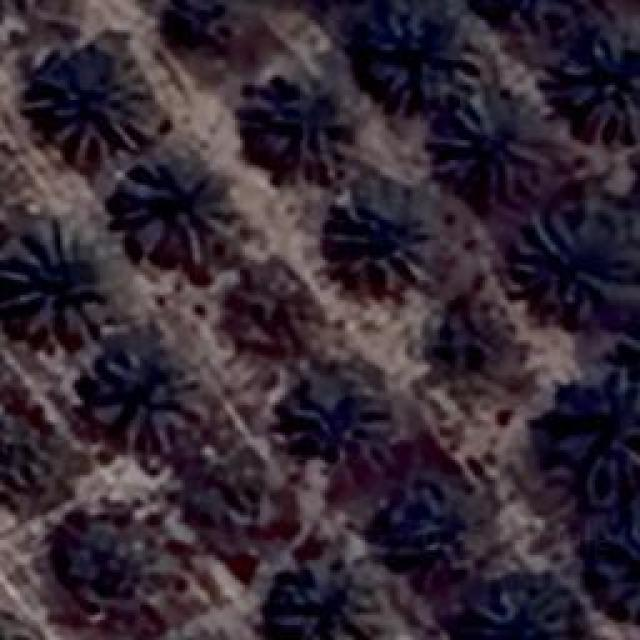PalmTree: (92, 12, 530, 52), (112, 150, 238, 265), (238, 65, 360, 180), (362, 2, 490, 108), (440, 90, 558, 198), (56, 511, 174, 619), (0, 222, 102, 342), (38, 58, 152, 162), (522, 210, 620, 315), (325, 195, 433, 290), (560, 22, 638, 142), (90, 348, 188, 442), (547, 396, 640, 493), (376, 481, 472, 571), (286, 385, 384, 465), (218, 269, 316, 349), (187, 458, 285, 538), (458, 585, 578, 640), (280, 577, 377, 640), (430, 306, 510, 376), (592, 526, 640, 626), (0, 402, 40, 496)
